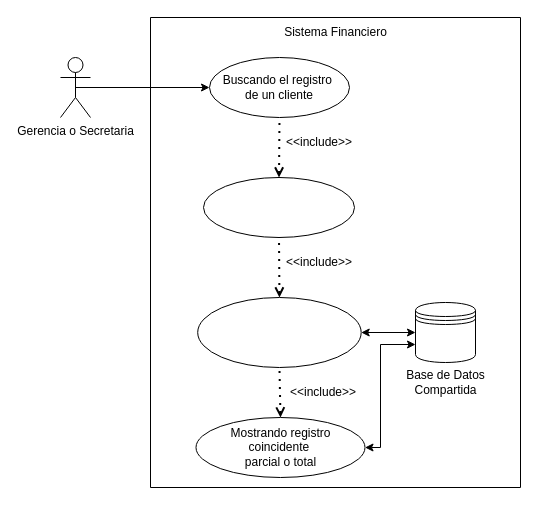
Image size: 538x505. Some labels were removed from this diagram. The shapes that lost their labels are listed below. From the top down, each one's centre as x and y in pixels, then its label:
the point at 278,207: Ingresando caracteres alfanuméricos
the point at 279,332: Comparando RUT y razón social de clientes listados
